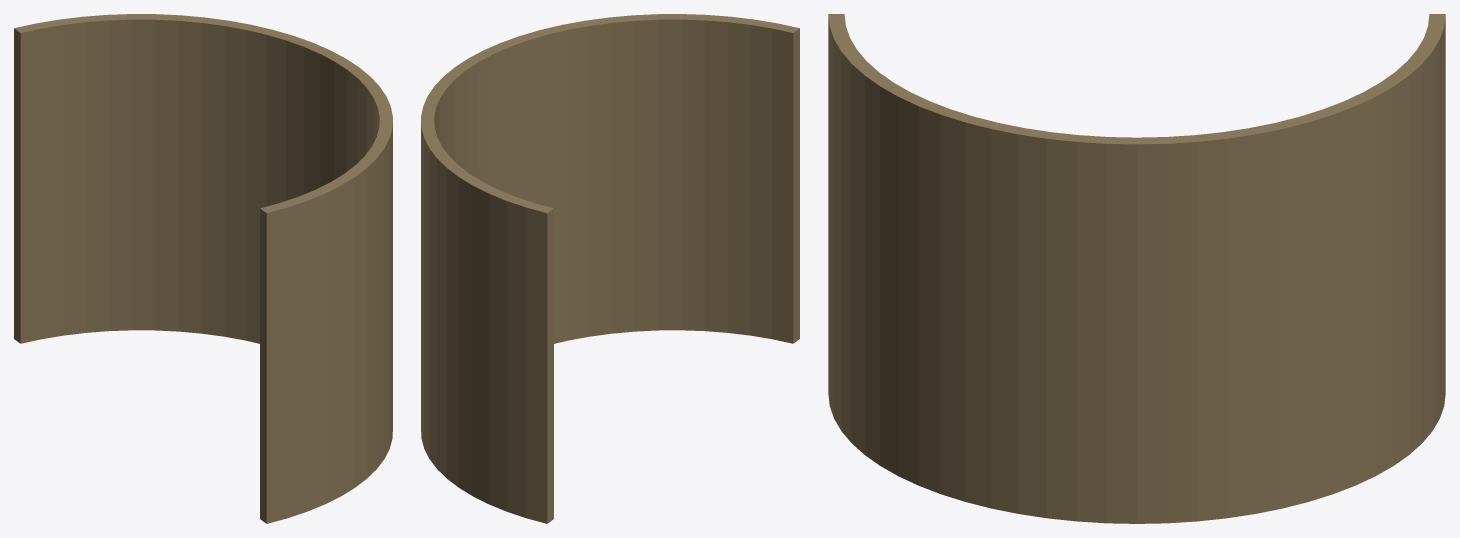
The model's file is Wall_N4_Bend_02.fbx.
3 views of the same model, side by side, from view 1: azimuth 30°, elevation 25°; view 2: azimuth 150°, elevation 25°; view 3: azimuth 270°, elevation 25° (orthographic). The views are drawn at different scales.
Parts seen in each view (by area): view 1: Wall_N4_Bend_02; view 2: Wall_N4_Bend_02; view 3: Wall_N4_Bend_02.
Boxes of the visible parts, x1,y1,x2,y2 form: Wall_N4_Bend_02: [14, 14, 392, 523]; Wall_N4_Bend_02: [421, 14, 799, 523]; Wall_N4_Bend_02: [828, 14, 1445, 523].
Size of the model in its own units: 422 by 572 by 844.
